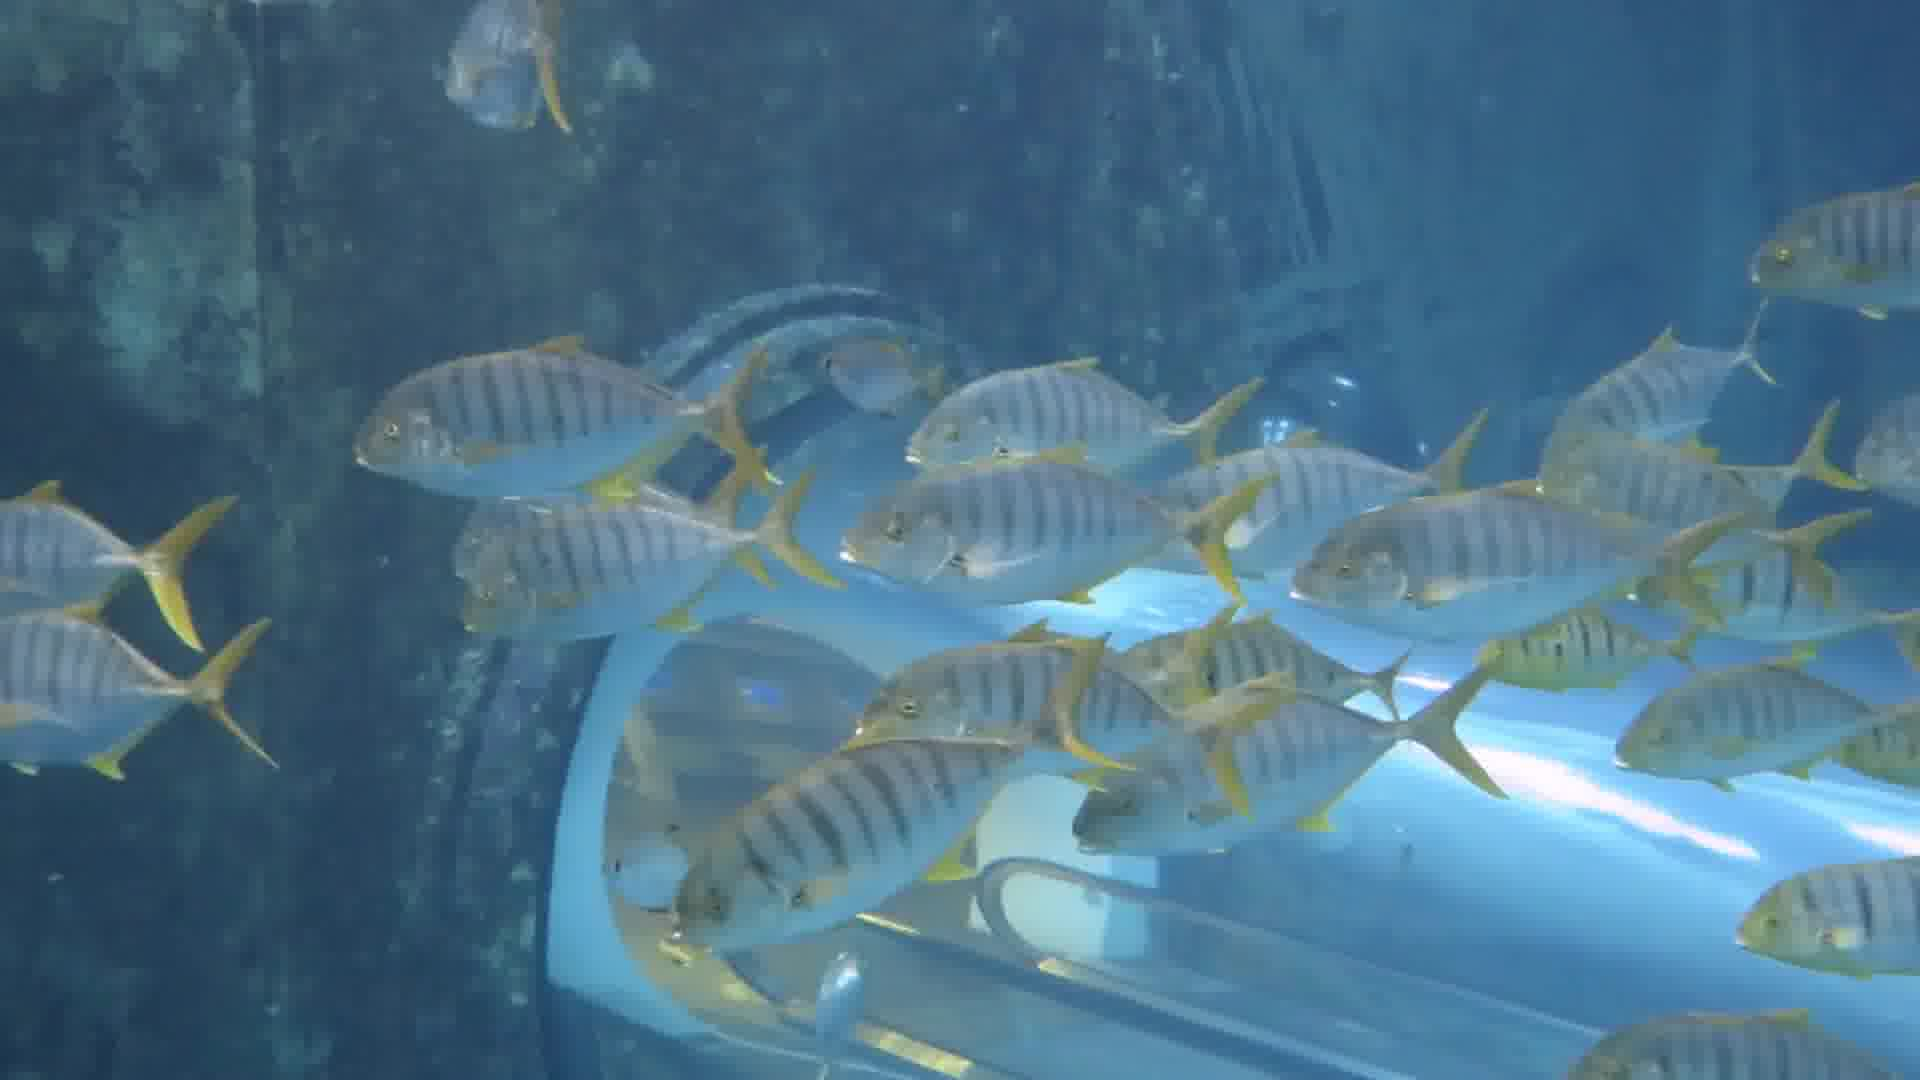Gnathanodon speciosus: (670, 721, 1025, 980), (338, 319, 793, 512), (1073, 687, 1457, 880), (462, 480, 828, 676), (843, 462, 1284, 607), (1284, 487, 1687, 607), (1539, 310, 1793, 487), (1619, 673, 1896, 791), (891, 372, 1278, 450), (1727, 847, 1919, 975), (1755, 164, 1920, 311)
